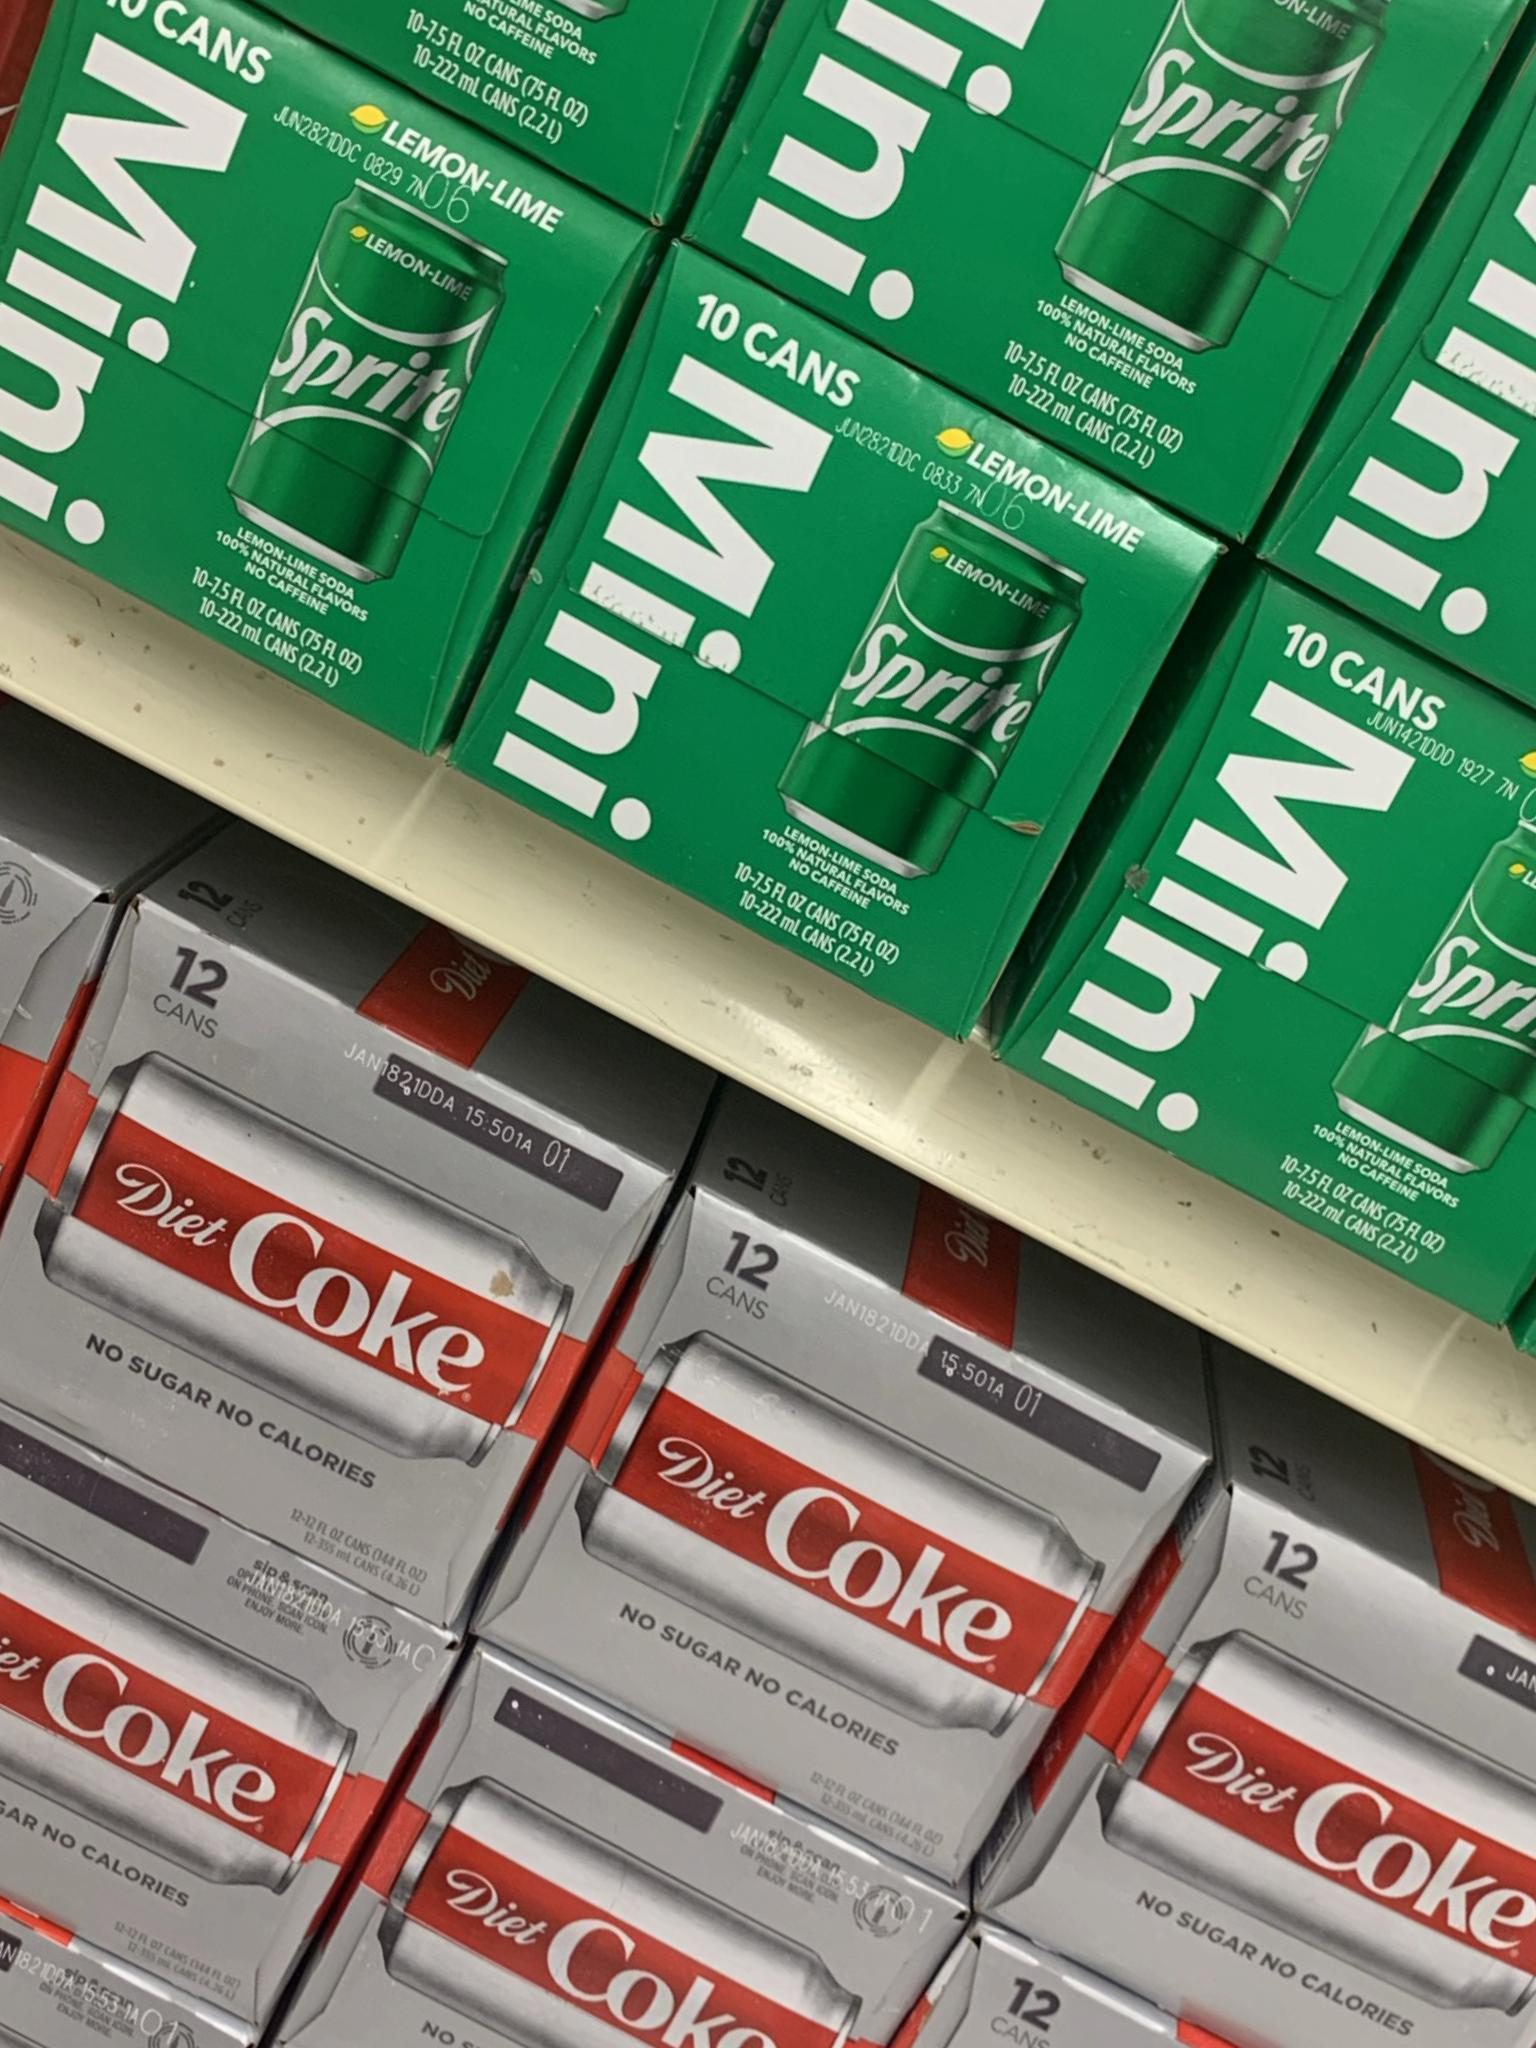soda: (21, 869, 502, 1630), (600, 198, 1021, 1051), (611, 1166, 1052, 1903), (1160, 527, 1536, 1335), (1073, 1438, 1536, 2048)
